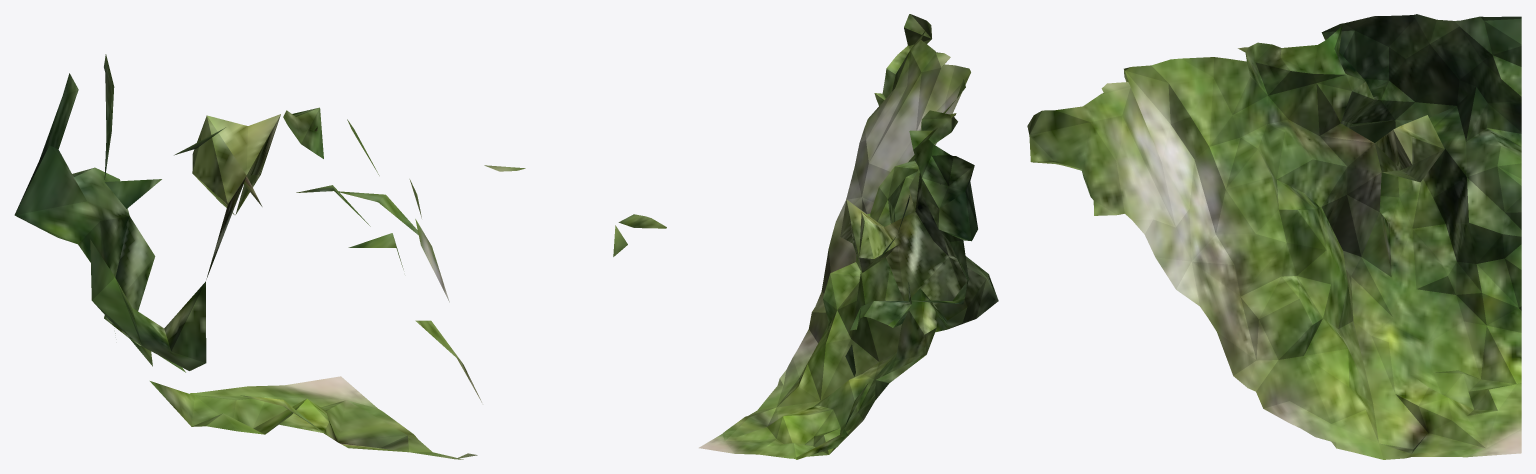
3 views of the same model, side by side, from view 1: azimuth 30°, elevation 25°; view 2: azimuth 150°, elevation 25°; view 3: azimuth 270°, elevation 25° (orthographic). The views are drawn at different scales.
Size of the model in its own units: 8.73 by 10.1 by 13.47.
Materials: 1 (1 with a texture image).
